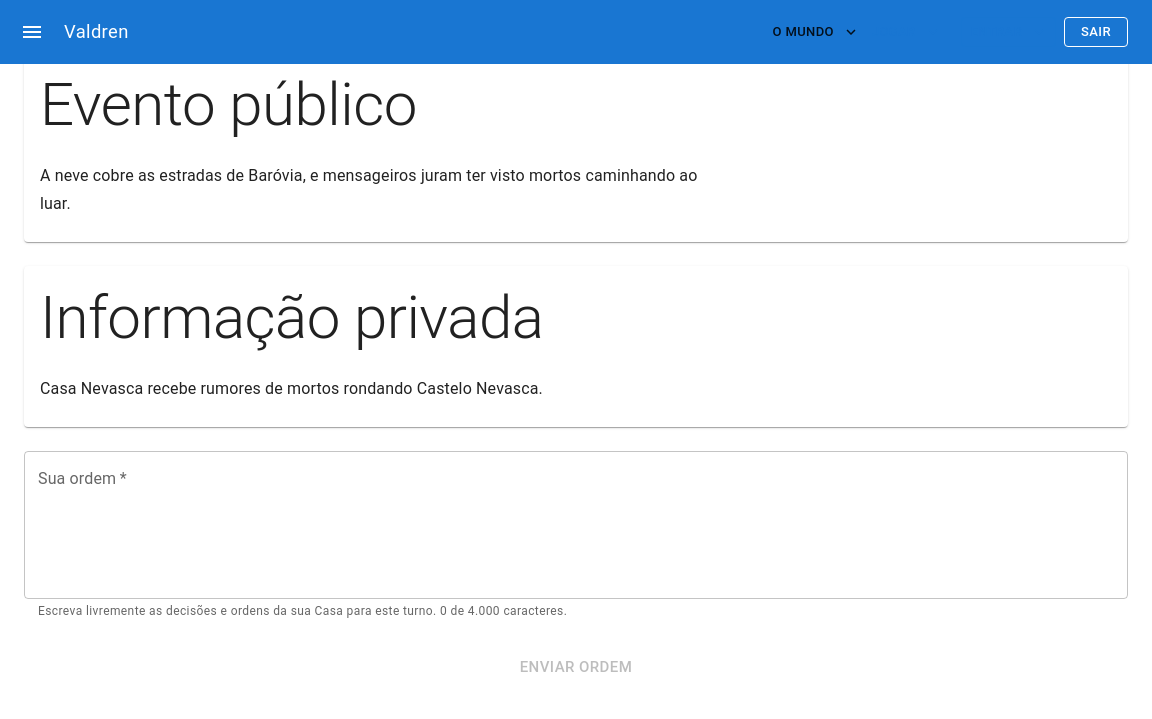
it: GamePage › shows the open turn and submits an order
(page scrolled)
expect the text "A neve cobre as estradas de Baróvia" is shown: met, box [40,166,698,213]
In the text box labelled "Sua ordem *": coordinates (576, 525) [38,468,1114,583], type "Patrulhar a estrada e dividir os celeiros."
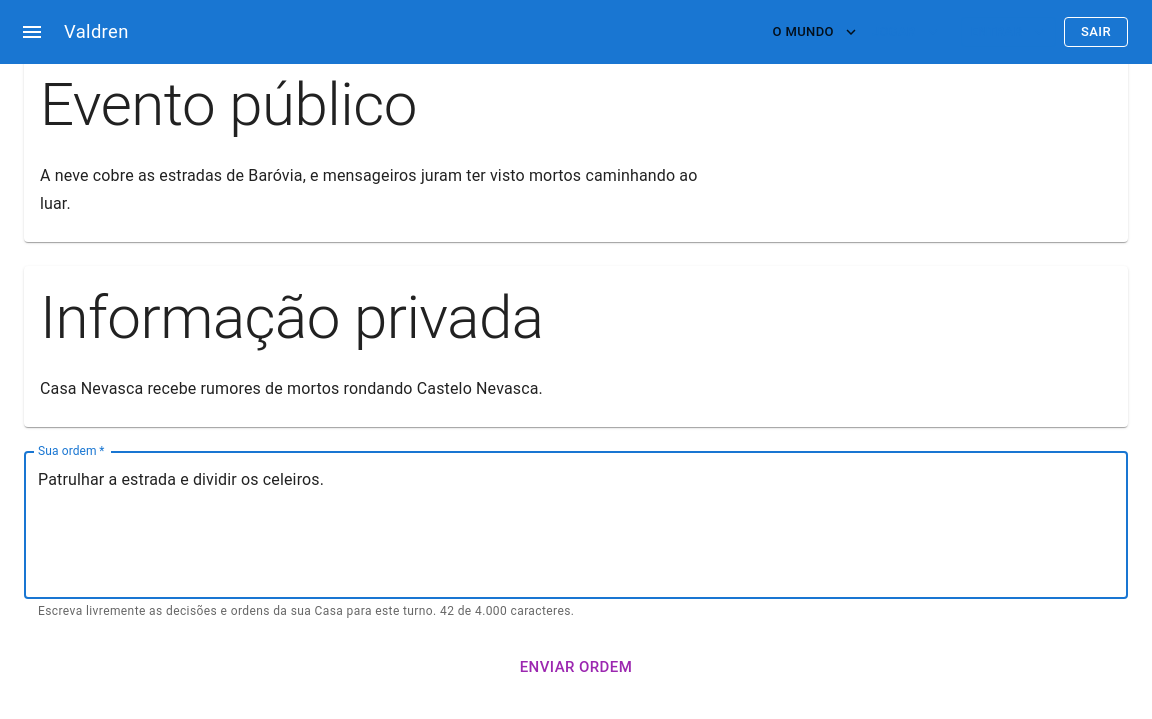
Click the button "Enviar ordem": coordinates (576, 667) [24,646,1128,688]
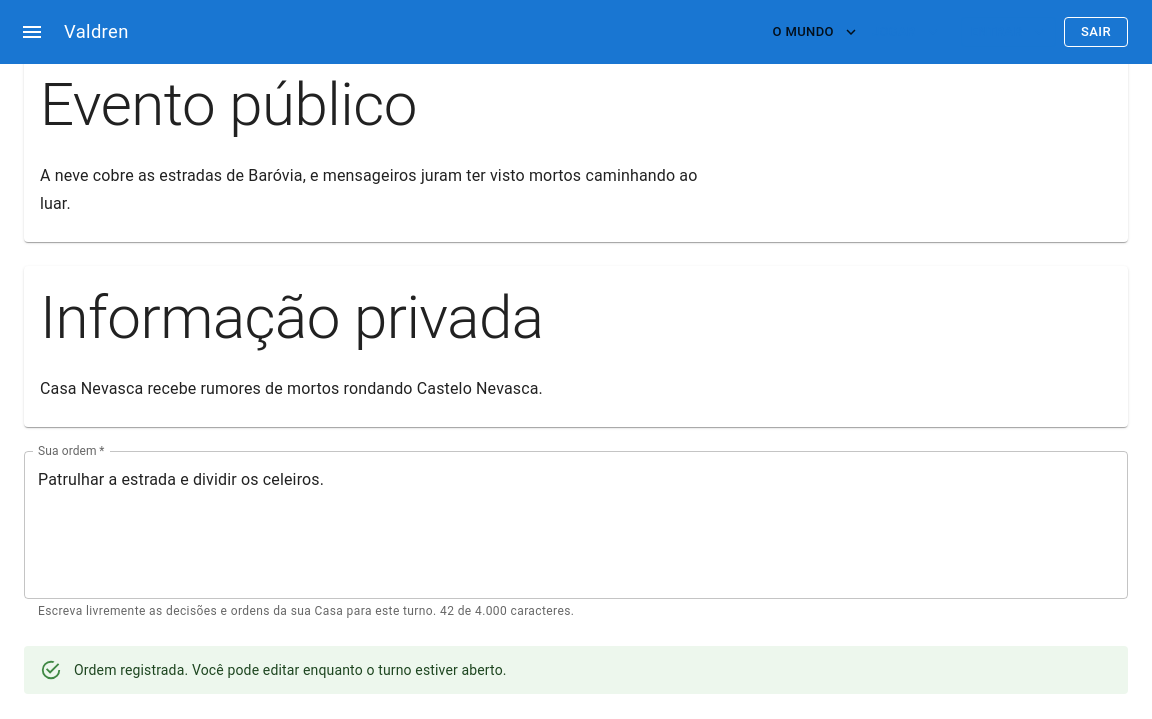
expect the text "Ordem registrada. Você pode editar enquanto o turno estiver aberto" is shown: met, box [74,662,507,678]
